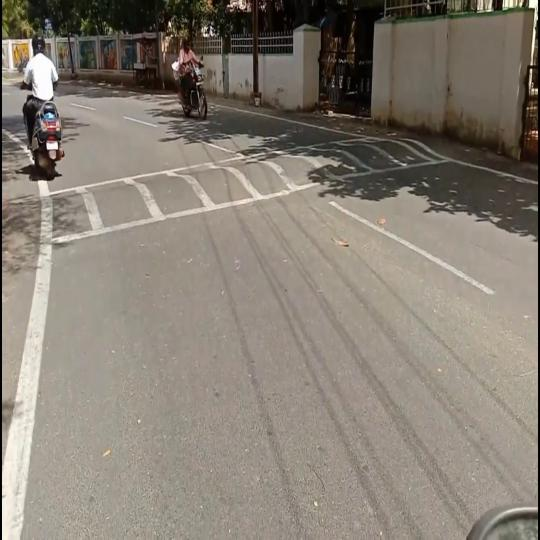Speed Bump: (65, 138, 439, 238), (5, 188, 65, 252)
